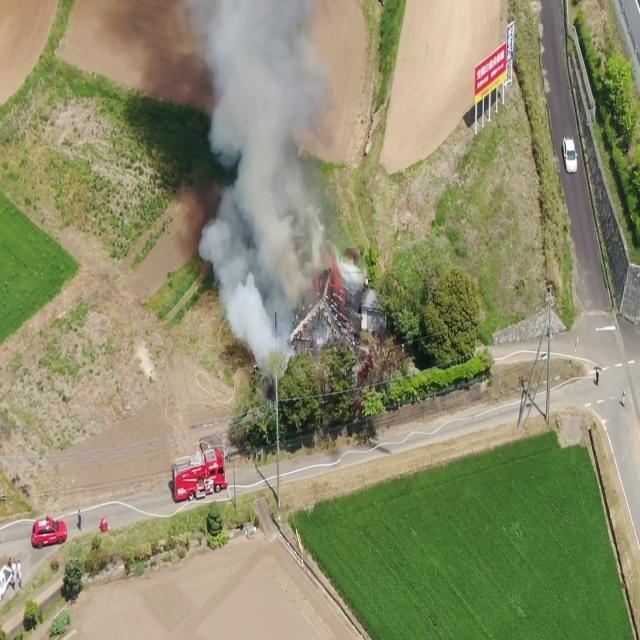Smoke: (187, 3, 359, 356)
